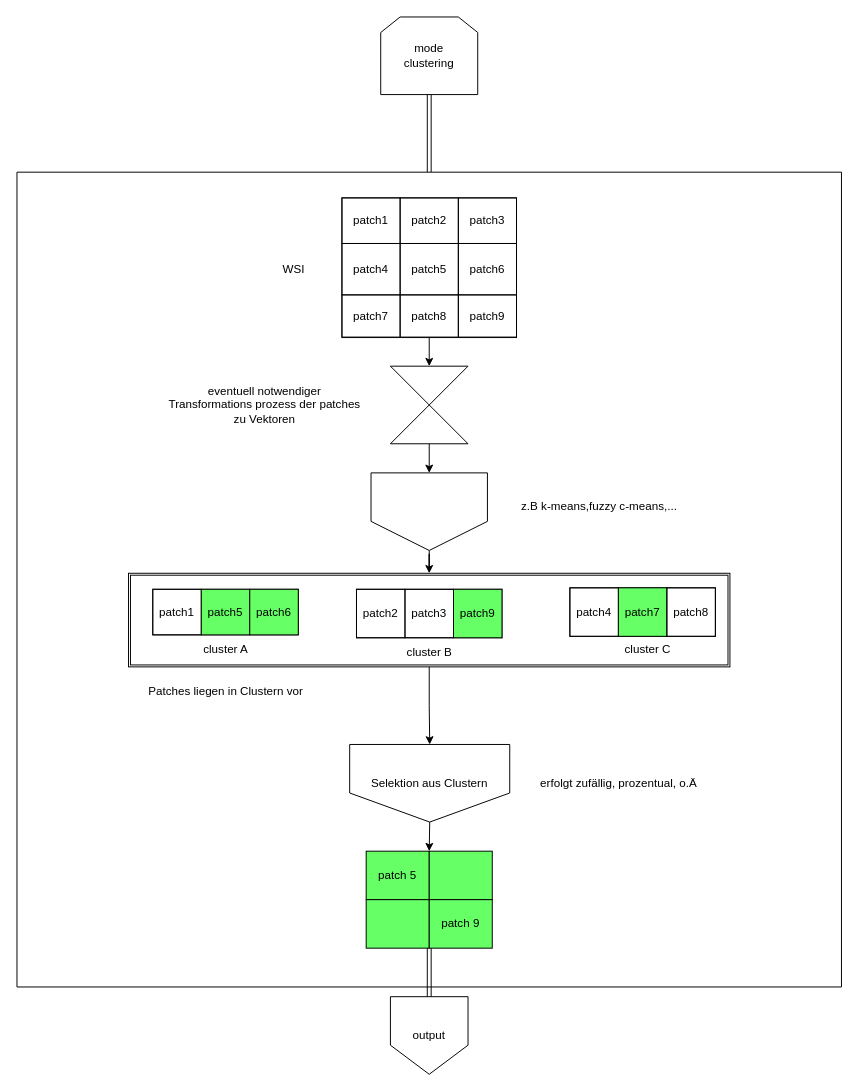
This 858x1091 diagram has some shape labels left out. The shapes that lost their labels are listed below. From the top down, each one's centre as x and y in pixels, then its label:
[428,511]: clustering process
[460,875]: patch 6
[397,923]: patch 7
